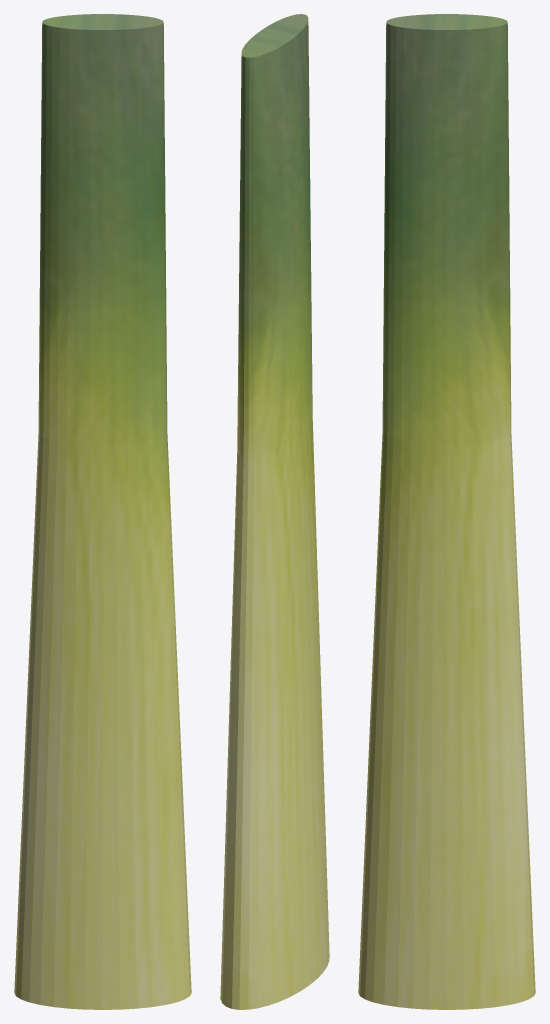
The model's file is leekChop.fbx.
3 views of the same model, side by side, from view 1: azimuth 90°, elevation 25°; view 2: azimuth 150°, elevation 25°; view 3: azimuth 270°, elevation 25° (orthographic). The views are drawn at different scales.
Parts seen in each view (by area): view 1: leekChop; view 2: leekChop; view 3: leekChop.
Part boxes in pixels (bbox=[...]): leekChop: bbox=[14, 14, 191, 1009]; leekChop: bbox=[220, 14, 329, 1009]; leekChop: bbox=[358, 14, 535, 1009].
Bounding box in the file's own units: 3.33 × 44.21 × 7.32.
